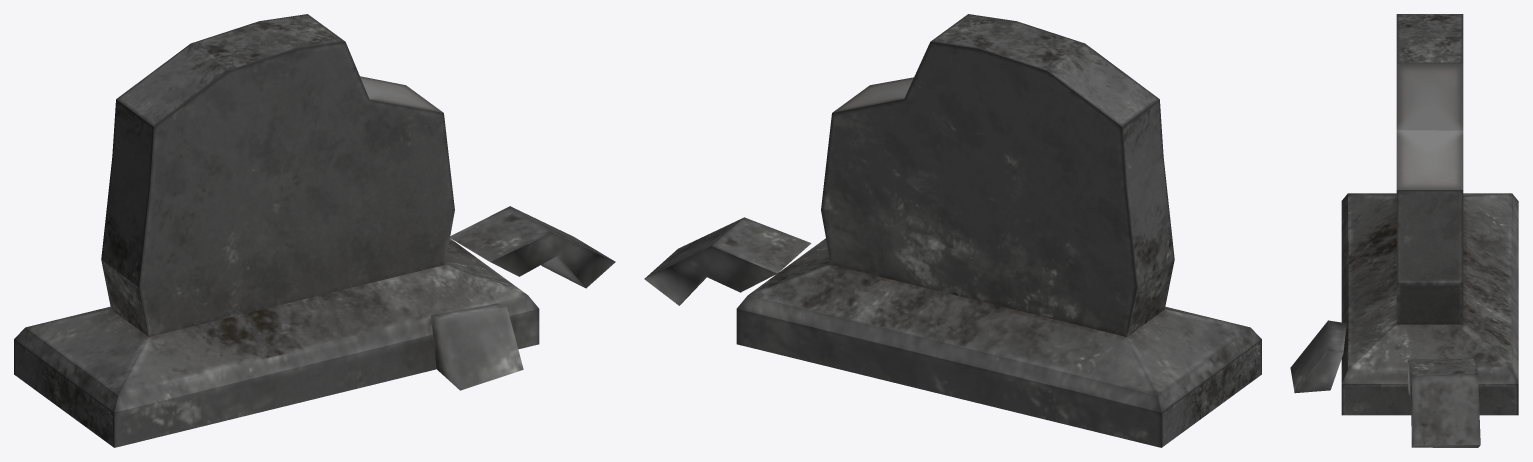
The model's file is tombs_06.fbx.
3 renders of one model, left to right at view 1: azimuth 30°, elevation 25°; view 2: azimuth 150°, elevation 25°; view 3: azimuth 270°, elevation 25°, orthographic. The views are drawn at different scales.
Parts seen in each view (by area): view 1: tombs_06; view 2: tombs_06; view 3: tombs_06.
Part boxes in pixels (x1,y1,x2,y2): tombs_06: [14, 14, 615, 447]; tombs_06: [644, 14, 1261, 447]; tombs_06: [1290, 14, 1518, 447].
Bounding box in the file's own units: 0.2213 × 0.1263 × 0.0913.
Materials: 1 (1 with a texture image).
